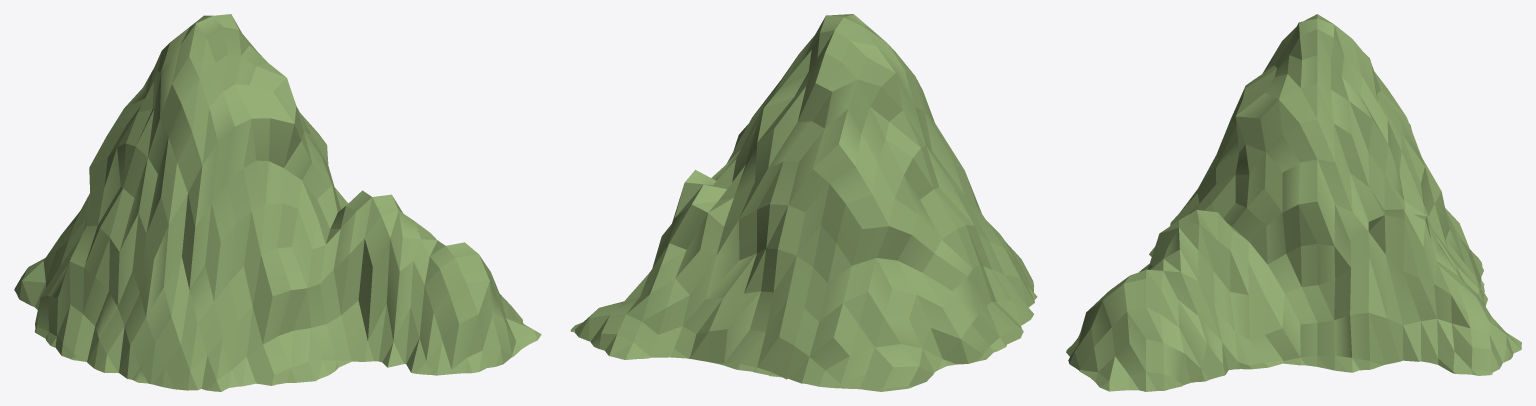
Rendered from montagna1.fbx.
3 views of the same model, side by side, from view 1: azimuth 30°, elevation 25°; view 2: azimuth 150°, elevation 25°; view 3: azimuth 270°, elevation 25° (orthographic). The views are drawn at different scales.
Visible parts, largest first — view 1: Mountain_Grass_01; view 2: Mountain_Grass_01; view 3: Mountain_Grass_01.
Boxes of the visible parts, left/top/right/bottom form: Mountain_Grass_01: left=14, top=14, right=541, bottom=391; Mountain_Grass_01: left=570, top=14, right=1037, bottom=391; Mountain_Grass_01: left=1066, top=14, right=1521, bottom=391.
Size of the model in its own units: 2268 by 1649 by 2486.
